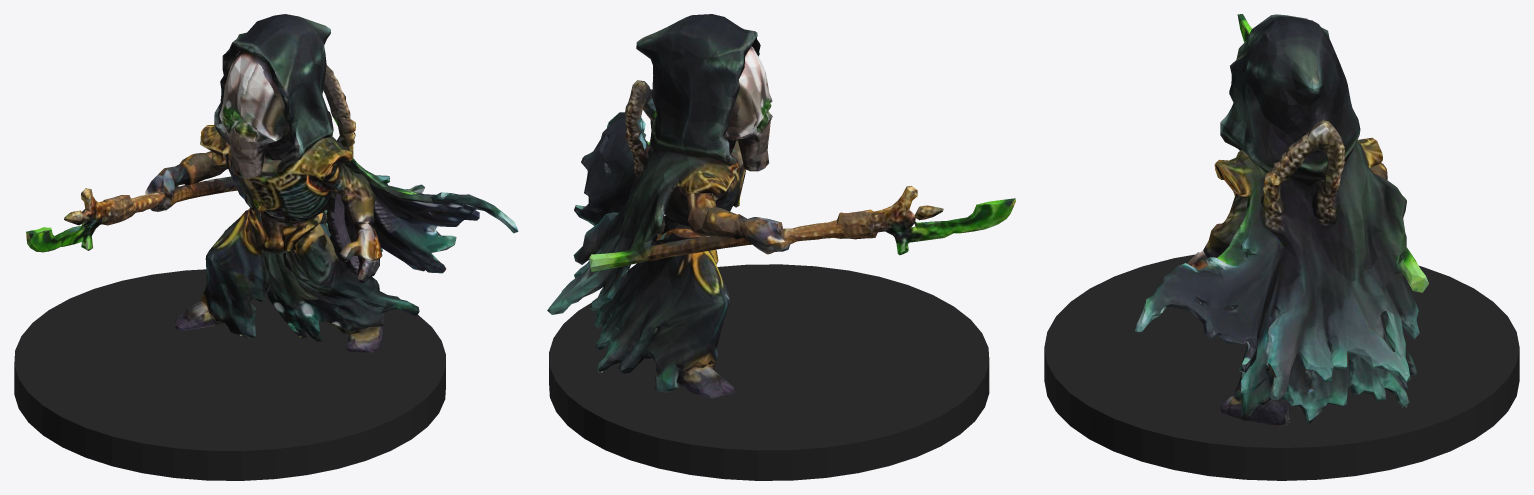
File: ht-psychomancer.glb
3 renders of one model, left to right at view 1: azimuth 30°, elevation 25°; view 2: azimuth 150°, elevation 25°; view 3: azimuth 270°, elevation 25°, orthographic. The views are drawn at different scales.
Parts seen in each view (by area): view 1: base, figure; view 2: base, figure; view 3: figure, base.
Part boxes in pixels (box(x1,y1,x2,y2)): base: box(14, 269, 445, 480); figure: box(26, 14, 518, 352); base: box(549, 264, 989, 480); figure: box(547, 14, 1015, 398); figure: box(1135, 14, 1428, 426); base: box(1044, 254, 1519, 480).
Bounding box in the file's own units: 1.87 × 1.42 × 1.57.
Materials: 2 (1 with a texture image).
